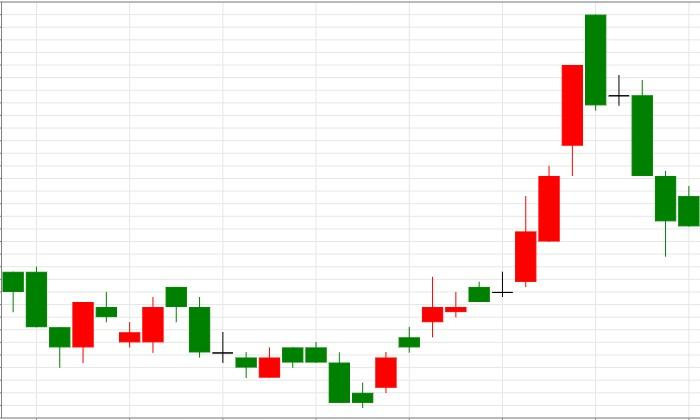bullish_engulfing_rise: (165, 287, 281, 378)
